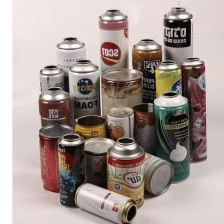aerosol_cans: (160, 2, 196, 113), (151, 89, 192, 185), (150, 57, 186, 158), (179, 55, 210, 166), (104, 135, 147, 213), (37, 120, 79, 195), (97, 6, 131, 95), (131, 35, 164, 124), (36, 85, 75, 155), (55, 131, 88, 210), (53, 34, 88, 100), (70, 55, 101, 126), (35, 60, 66, 131)
can: (98, 64, 145, 140), (70, 179, 140, 224), (127, 100, 170, 155), (70, 111, 110, 167), (80, 132, 117, 187), (103, 105, 136, 164)
